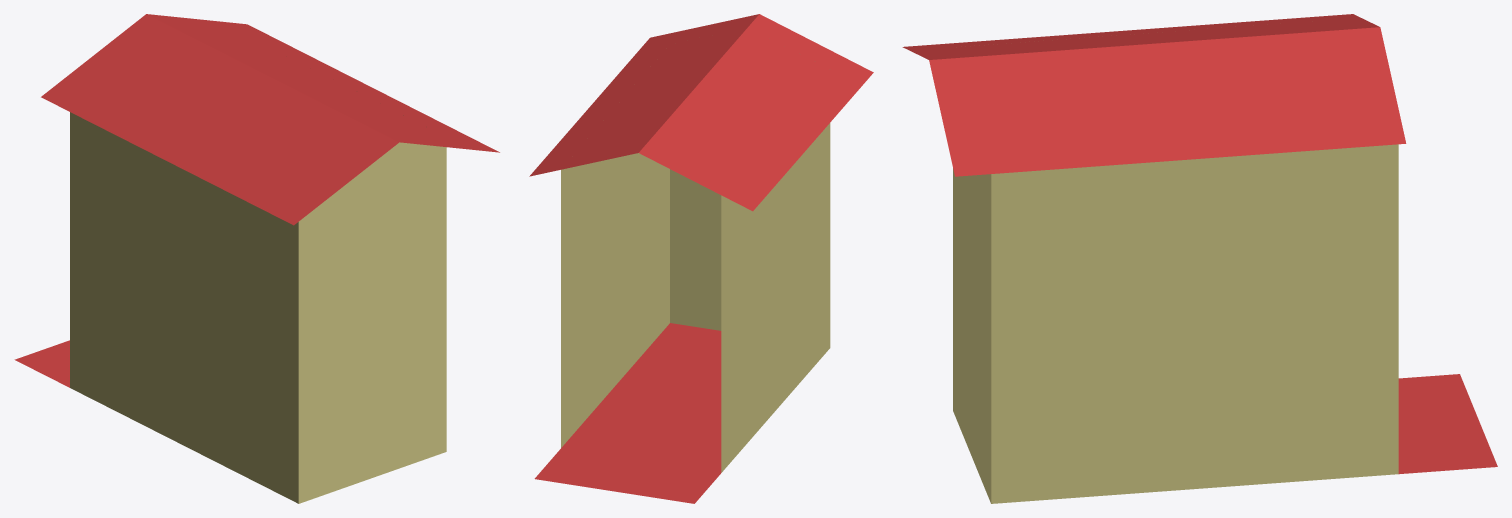
3 views of the same model, side by side, from view 1: azimuth 30°, elevation 25°; view 2: azimuth 150°, elevation 25°; view 3: azimuth 270°, elevation 25° (orthographic). The views are drawn at different scales.
Bounding box in the file's own units: 6.53 × 10.11 × 7.52.
